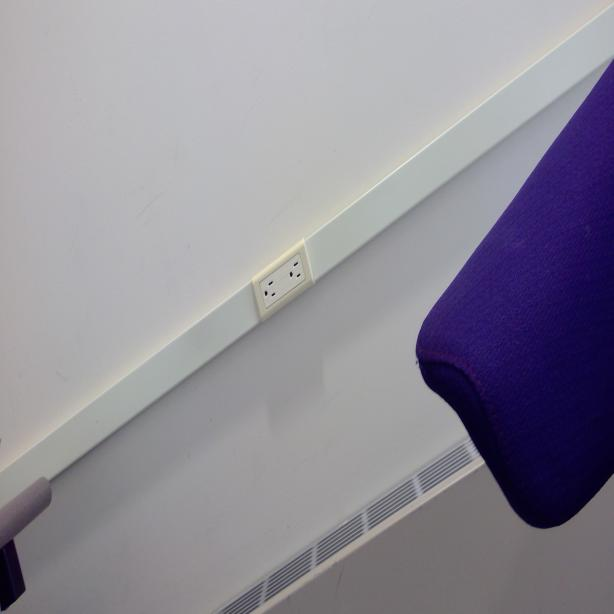typeb: (261, 277, 279, 307), (286, 258, 303, 286)
